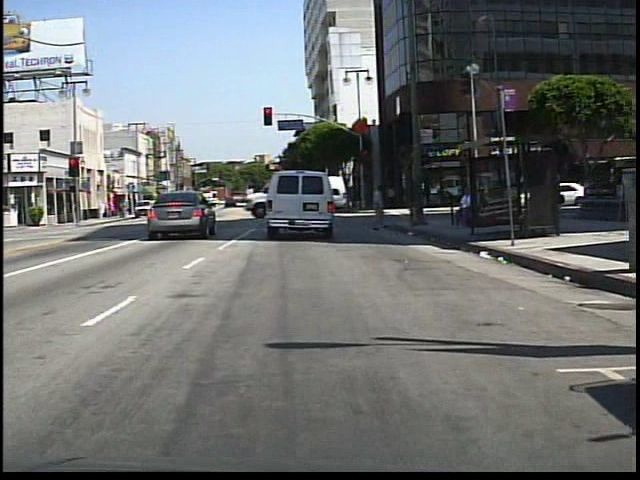person: (369, 181, 394, 235), (453, 188, 475, 233), (155, 192, 169, 218)
